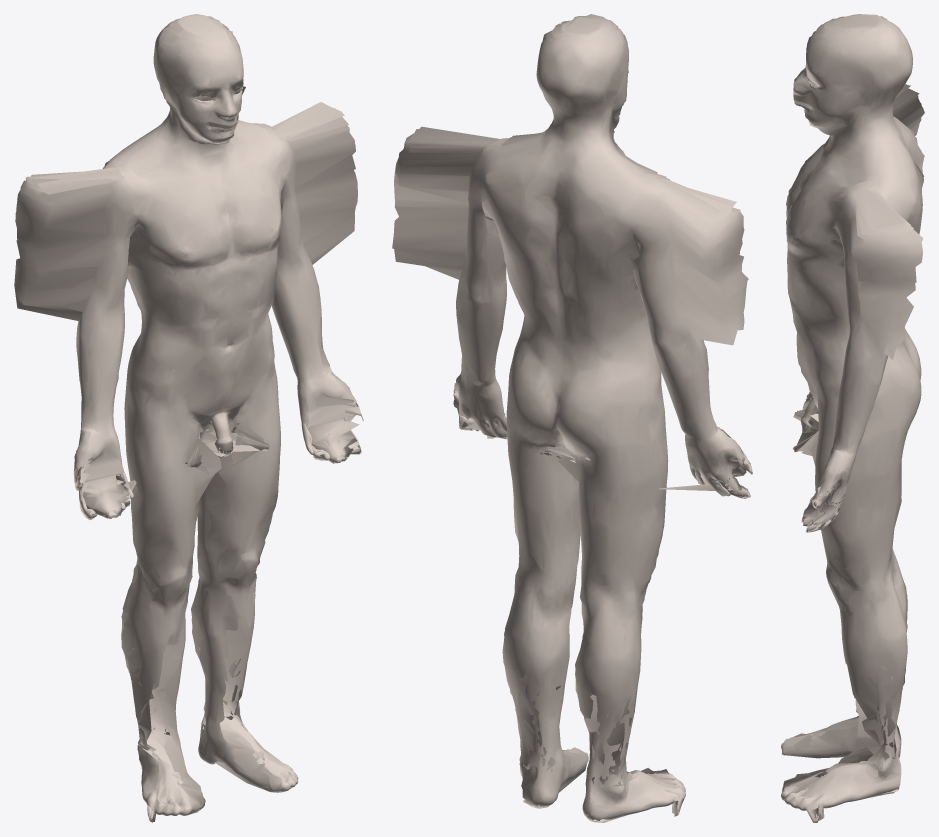
File: deri.glb
The picture shows the model from 3 angles, left to right: view 1: azimuth 30°, elevation 25°; view 2: azimuth 150°, elevation 25°; view 3: azimuth 270°, elevation 25°; orthographic projection. The views are drawn at different scales.
Parts seen in each view (by area): view 1: Skin of body; view 2: Skin of body; view 3: Skin of body.
Part boxes in pixels (left/top/right/bottom): Skin of body: left=14, top=14, right=363, bottom=822; Skin of body: left=392, top=14, right=752, bottom=822; Skin of body: left=781, top=14, right=924, bottom=822.
Bounding box in the file's own units: 0.7952 × 1.75 × 0.2962.
